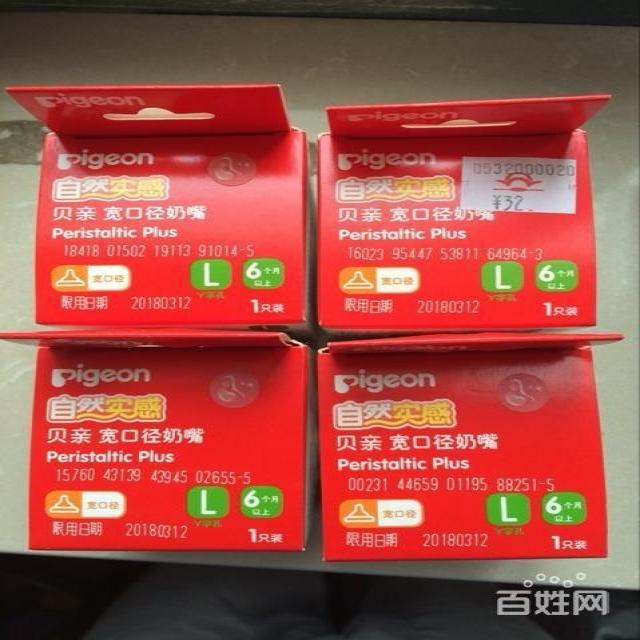box: (5, 84, 318, 339), (318, 92, 615, 339), (0, 325, 319, 552), (317, 332, 624, 562)
